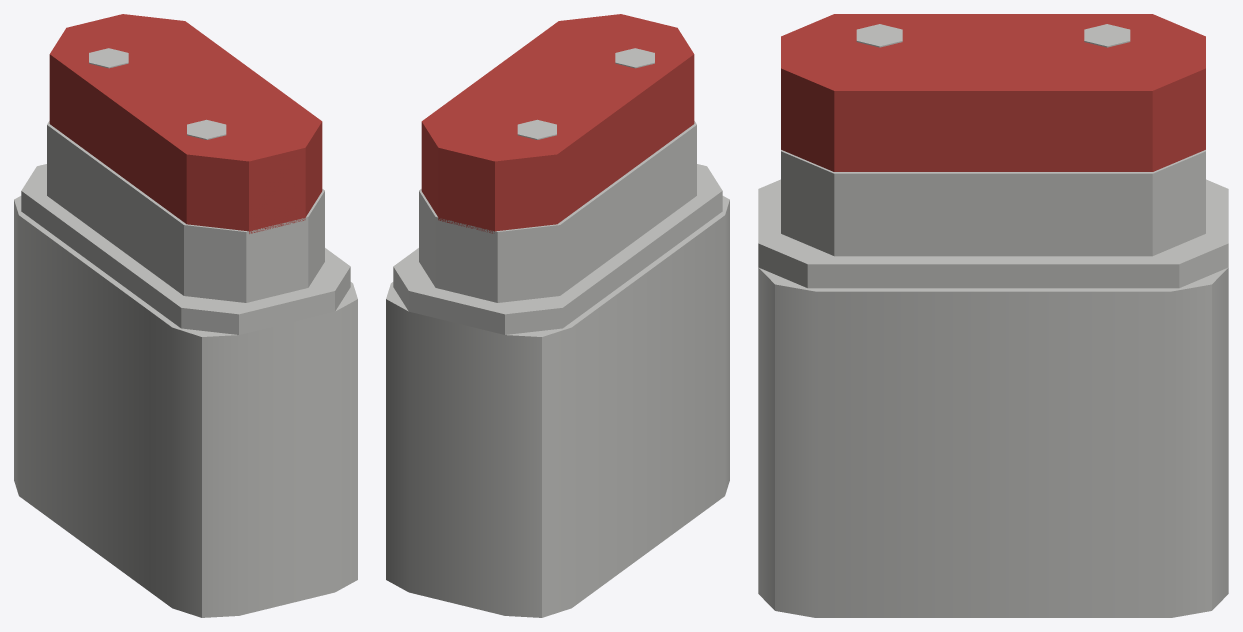
File: hot_cam_lod2.glb
3 views of the same model, side by side, from view 1: azimuth 30°, elevation 25°; view 2: azimuth 150°, elevation 25°; view 3: azimuth 270°, elevation 25° (orthographic). The views are drawn at different scales.
Parts seen in each view (by area): view 1: hot_cam_lod2; view 2: hot_cam_lod2; view 3: hot_cam_lod2.
Boxes of the visible parts, box(x1,y1,x2,y2) form: hot_cam_lod2: box(14, 14, 357, 617); hot_cam_lod2: box(386, 14, 729, 617); hot_cam_lod2: box(758, 14, 1228, 617).
Bounding box in the file's own units: 0.128 × 0.3 × 0.248.
